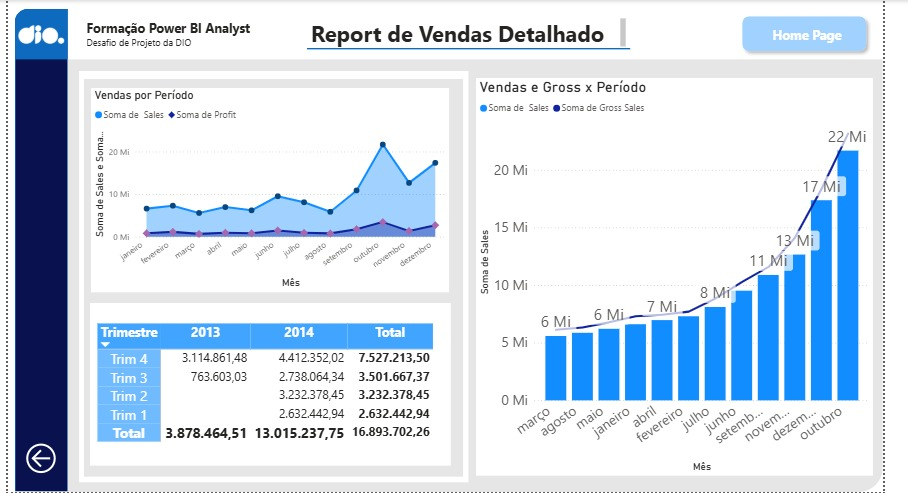

The page's visual inventory and layout, read from the dashboard file:
{"tool":"powerbi","page":{"name":"Report","canvas":[1280,720],"ordinal":2},"visuals":[{"type":"group","id":"g1","title":"Layout","box":[10,12.8,1270,707],"z":0},{"type":"shape","box":[10,12.8,1270,707],"z":0,"group":"g1"},{"type":"shape","box":[437.3,51.5,473,37.1],"z":0,"group":"g3"},{"type":"shape","box":[103.6,103.6,569.9,601.9],"z":0,"group":"g2"},{"type":"shape","box":[10.1,13.4,77.2,706.3],"z":1000,"group":"g1"},{"type":"textbox","box":[438.7,21.3,470.2,52.2],"z":1000,"group":"g3"},{"type":"lineClusteredColumnComboChart","title":"Vendas e Gross x Período","fields":{"Category":["financials.Date.Variation.Hierarquia de datas.Mês"],"Y":["Sum(financials. Sales)"],"Y2":["Sum(financials.Gross Sales)"]},"box":[684.2,114.3,580.6,582.1],"z":1000},{"type":"shape","box":[110.3,114.6,554.7,582.1],"z":1000,"group":"g2"},{"type":"shape","box":[10.1,13.4,77.2,73.8],"z":2000,"group":"g1"},{"type":"group","id":"g2","title":"Detalhes venda x profit","box":[103.6,103.6,569.9,601.9],"z":2000},{"type":"shape","box":[120.1,443.5,528.4,238.2],"z":2000,"group":"g2"},{"type":"image","title":"logo_dio","box":[10.1,18.4,77.2,62.1],"z":3000,"group":"g1"},{"type":"textbox","title":"Título do report","box":[109.7,22.9,377.9,64],"z":3000},{"type":"areaChart","title":"Vendas por Período","fields":{"Category":["financials.Date.Variation.Hierarquia de datas.Trimestre","financials.Date.Variation.Hierarquia de datas.Mês"],"Y":["Sum(financials. Sales)","Sum(financials.Profit)"]},"box":[120.9,128.6,524.2,298.7],"z":3000,"group":"g2"},{"type":"shape","box":[87,12.8,1193.1,74.1],"z":4000,"group":"g1"},{"type":"group","id":"g3","title":"Sales report","box":[437.3,21.3,472.4,67],"z":4000},{"type":"pivotTable","fields":{"Columns":["financials.Date.Variation.Hierarquia de datas.Ano"],"Rows":["financials.Date.Variation.Hierarquia de datas.Trimestre"],"Values":["Sum(financials.Profit)"]},"box":[126,468.4,509.5,189.9],"z":4000,"group":"g2"},{"type":"actionButton","box":[20.6,622.4,55.6,96.9],"z":6000},{"type":"actionButton","title":"Home Page","box":[1064.7,14.6,199.6,69.2],"z":9000,"group":"g4"},{"type":"textbox","box":[1101,33.7,134.4,34.6],"z":9500,"group":"g4"},{"type":"group","id":"g4","title":"Botão home","box":[1064.7,14.6,199.6,69.2],"z":9501}]}

Visuals, with their boxes on the page's 1280x720 design canvas (x1, y1, x2, y2). These are canvas units, not pixel positions in the 908x493 screenshot, which may show the page scaled, cropped or inside an application window:
"Layout" group: [x1=10, y1=13, x2=1280, y2=720]
shape: [x1=10, y1=13, x2=1280, y2=720]
shape: [x1=437, y1=52, x2=910, y2=89]
shape: [x1=104, y1=104, x2=674, y2=706]
shape: [x1=10, y1=13, x2=87, y2=720]
textbox: [x1=439, y1=21, x2=909, y2=74]
"Vendas e Gross x Período" lineClusteredColumnComboChart: [x1=684, y1=114, x2=1265, y2=696]
shape: [x1=110, y1=115, x2=665, y2=697]
shape: [x1=10, y1=13, x2=87, y2=87]
"Detalhes venda x profit" group: [x1=104, y1=104, x2=674, y2=706]
shape: [x1=120, y1=444, x2=648, y2=682]
"logo_dio" image: [x1=10, y1=18, x2=87, y2=80]
"Título do report" textbox: [x1=110, y1=23, x2=488, y2=87]
"Vendas por Período" areaChart: [x1=121, y1=129, x2=645, y2=427]
shape: [x1=87, y1=13, x2=1280, y2=87]
"Sales report" group: [x1=437, y1=21, x2=910, y2=88]
pivotTable - financials.Date.Variation.Hierarquia de datas.Ano x financials.Date.Variation.Hierarquia de datas.Trimestre: [x1=126, y1=468, x2=636, y2=658]
actionButton: [x1=21, y1=622, x2=76, y2=719]
"Home Page" actionButton: [x1=1065, y1=15, x2=1264, y2=84]
textbox: [x1=1101, y1=34, x2=1235, y2=68]
"Botão home" group: [x1=1065, y1=15, x2=1264, y2=84]
